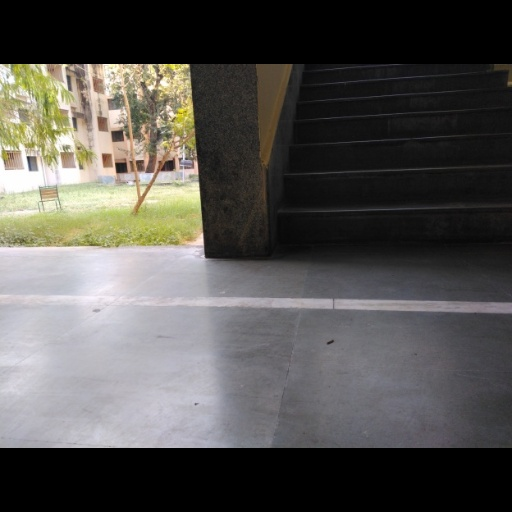Stairs: (278, 66, 512, 243)
